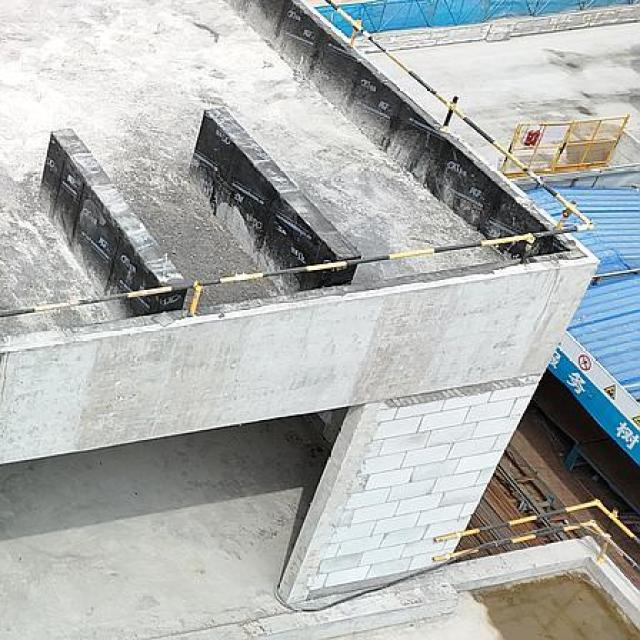edge_guardrail: (0, 0, 599, 323), (430, 498, 640, 576)
